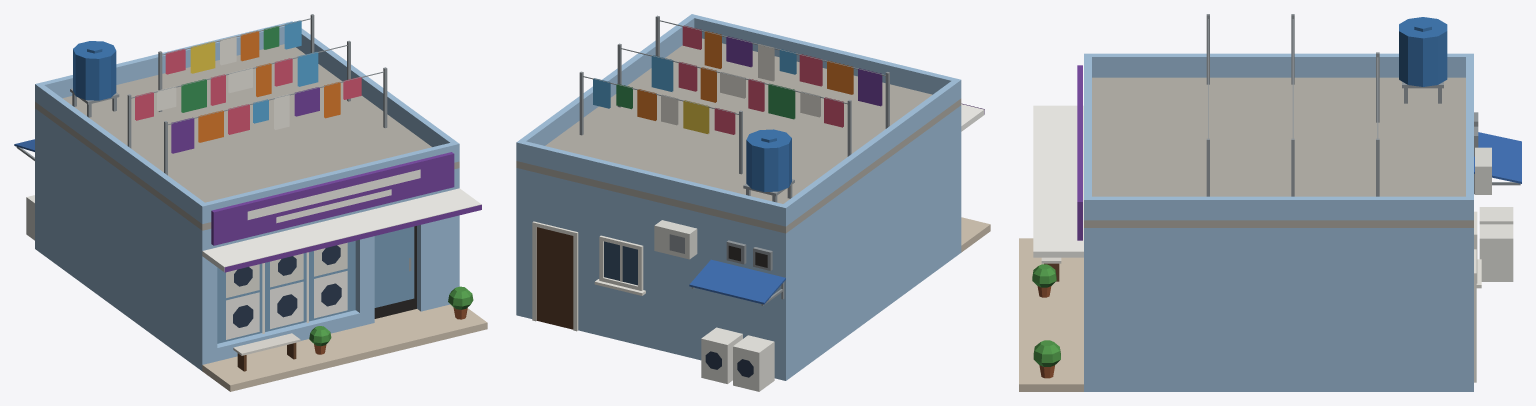
The model's file is warung_03.glb.
3 views of the same model, side by side, from view 1: azimuth 30°, elevation 25°; view 2: azimuth 150°, elevation 25°; view 3: azimuth 270°, elevation 25° (orthographic). The views are drawn at different scales.
Visible parts, largest first — view 1: warung_03; view 2: warung_03; view 3: warung_03.
Part boxes in pixels (<box>): warung_03: <box>14,14,487,391</box>; warung_03: <box>516,14,990,391</box>; warung_03: <box>1019,14,1521,391</box>.
Size of the model in its own units: 6.12 by 4.74 by 8.9.
